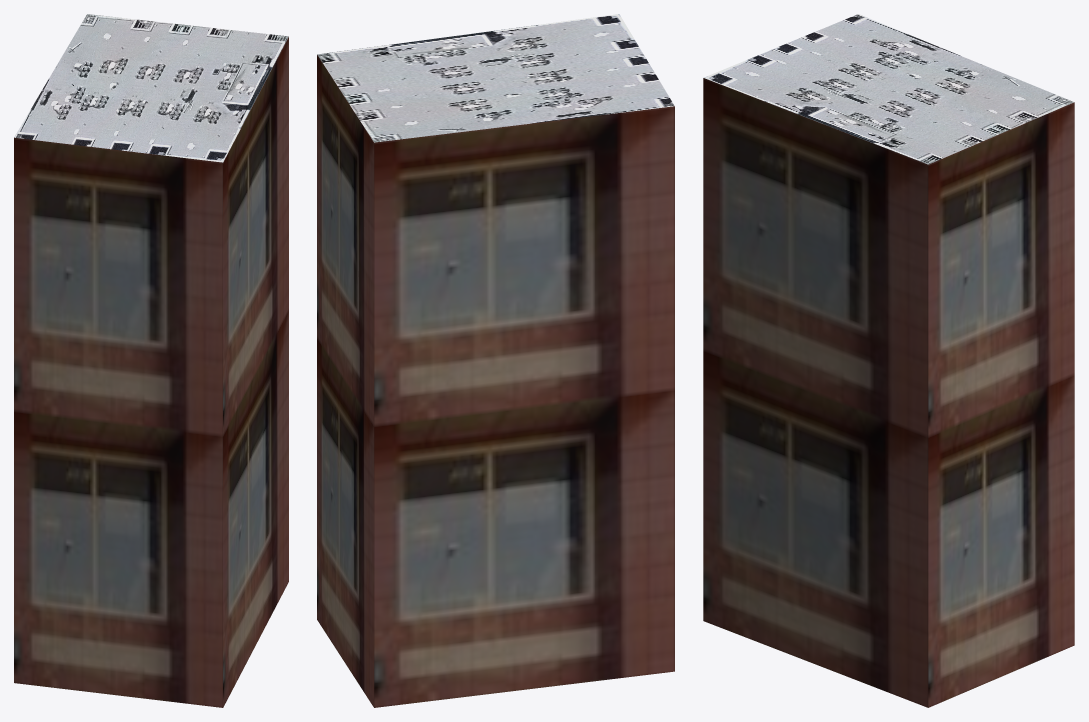
Rendered from ResTex__3169.fbx.
3 views of the same model, side by side, from view 1: azimuth 30°, elevation 25°; view 2: azimuth 150°, elevation 25°; view 3: azimuth 270°, elevation 25° (orthographic). The views are drawn at different scales.
Visible parts, largest first — view 1: CityEngineMaterial_13_m, CityEngineMaterial_2_m; view 2: CityEngineMaterial_13_m, CityEngineMaterial_2_m; view 3: CityEngineMaterial_13_m, CityEngineMaterial_2_m.
Boxes of the visible parts, box(x1,y1,x2,y2) form: CityEngineMaterial_13_m: box(14, 37, 288, 707); CityEngineMaterial_2_m: box(14, 14, 288, 162); CityEngineMaterial_13_m: box(317, 55, 674, 707); CityEngineMaterial_2_m: box(317, 14, 674, 142); CityEngineMaterial_13_m: box(703, 78, 1074, 707); CityEngineMaterial_2_m: box(703, 14, 1073, 164).
Size of the model in its own units: 3.57 by 6 by 3.71.
2 materials, 2 textured.
